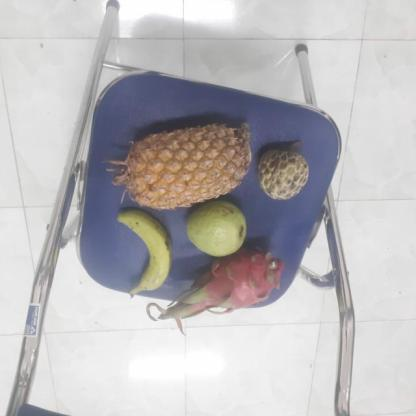annona: (253, 144, 308, 199)
banana: (112, 209, 172, 294)
guava: (181, 199, 249, 257)
pineapple: (116, 119, 248, 208)
pitaya: (174, 247, 281, 312)
